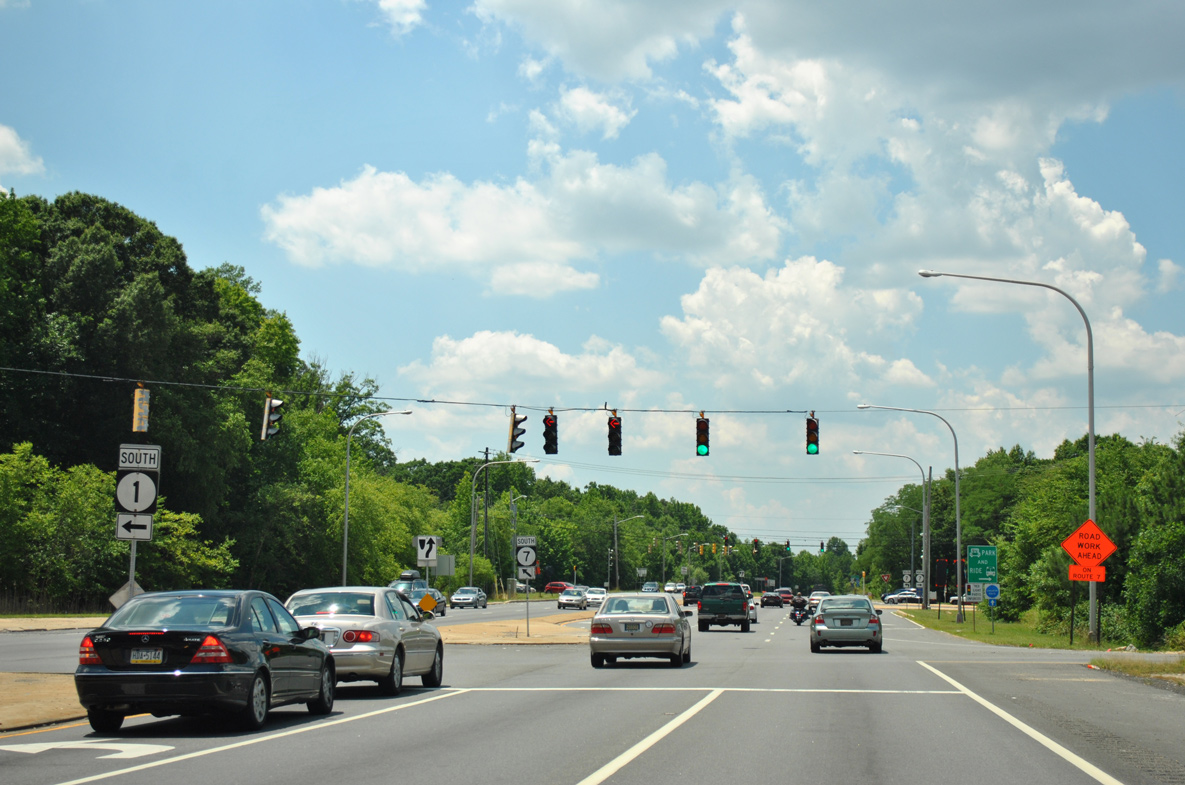traffic_light: (541, 413, 560, 456), (606, 415, 624, 458), (694, 416, 712, 458), (804, 416, 821, 456)
